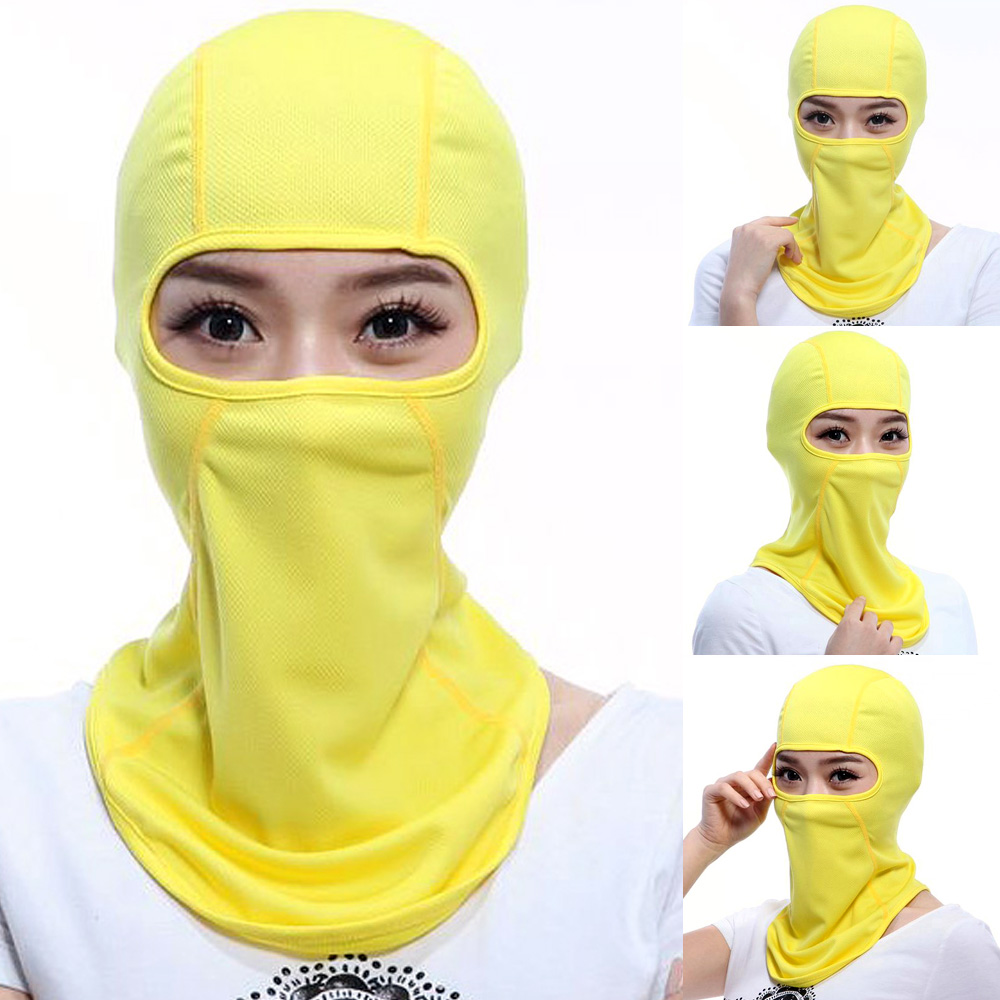face_mask: (139, 157, 492, 621), (793, 379, 912, 534), (769, 725, 893, 870), (794, 58, 913, 207)
